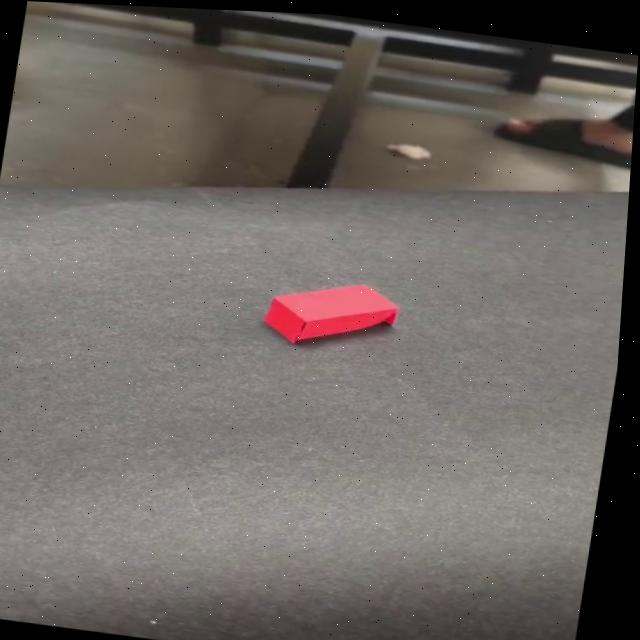red block: (257, 269, 403, 357)
